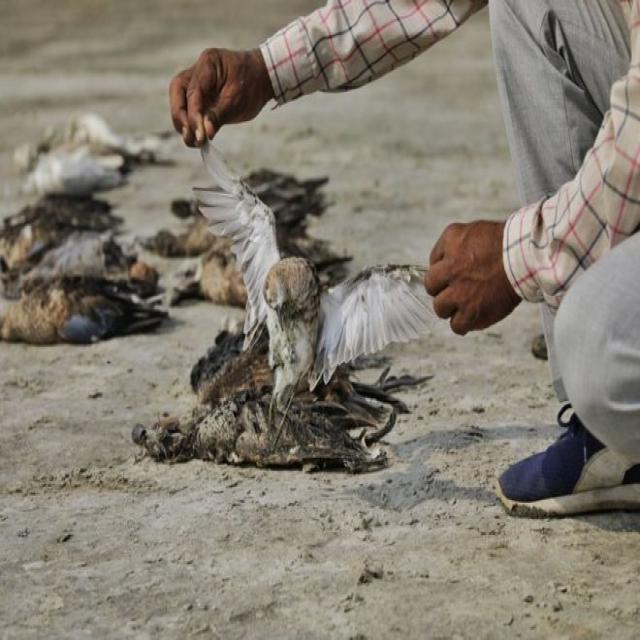Bangkai Burung: (171, 114, 481, 405), (132, 320, 378, 487), (23, 260, 151, 353), (27, 137, 154, 204)
